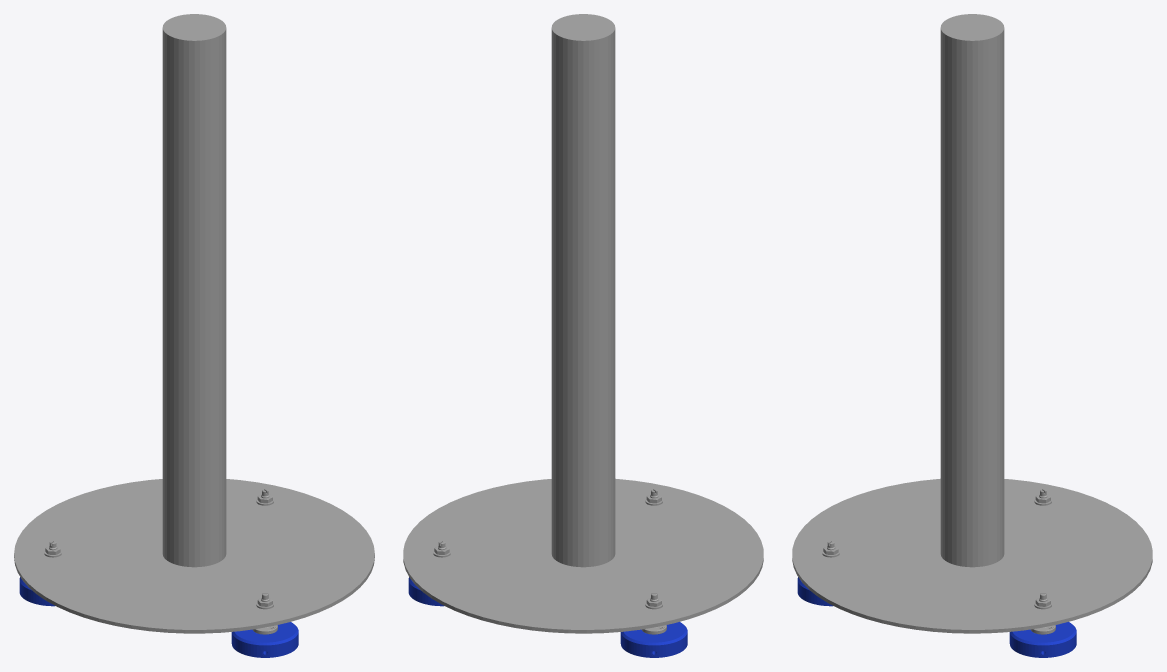
The model's file is sc_bot_ball.dae.
3 views of the same model, side by side, from view 1: azimuth 30°, elevation 25°; view 2: azimuth 150°, elevation 25°; view 3: azimuth 270°, elevation 25° (orthographic).
Visible parts, largest first — view 1: feet_platform, pedestal, feet; view 2: feet_platform, pedestal, feet; view 3: feet_platform, pedestal, feet.
Boxes of the visible parts, x1=… form: feet_platform: x1=14, y1=479, x2=374, y2=634; pedestal: x1=162, y1=14, x2=226, y2=567; feet: x1=19, y1=577, x2=298, y2=657; feet_platform: x1=403, y1=478, x2=763, y2=634; pedestal: x1=551, y1=14, x2=615, y2=567; feet: x1=408, y1=577, x2=687, y2=657; feet_platform: x1=792, y1=478, x2=1152, y2=634; pedestal: x1=940, y1=14, x2=1004, y2=567; feet: x1=797, y1=577, x2=1076, y2=657.
Bounding box in the file's own units: 0.4317 × 0.4316 × 0.7464.
